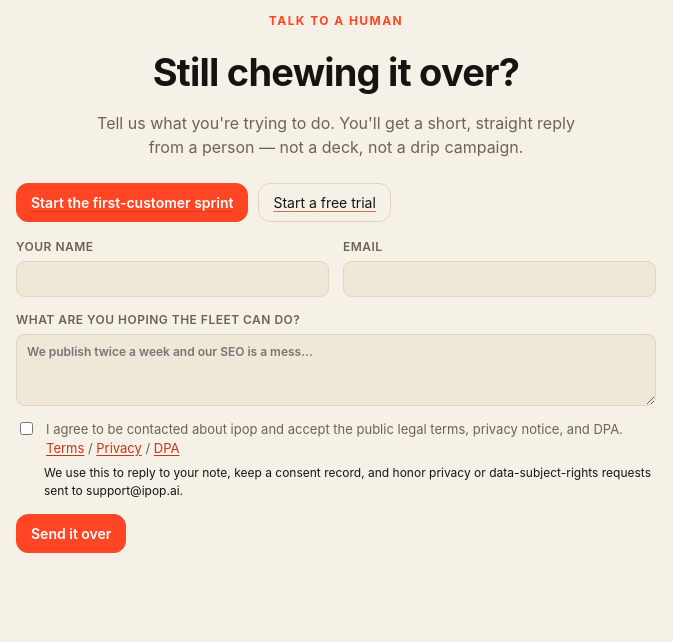
Test: ContactForm failure visibility (#938) › logs non-2xx captures and shows the accessible error alert
In the field labelled "Email": (500, 279) [343,261,656,297], type "ada@example.com"
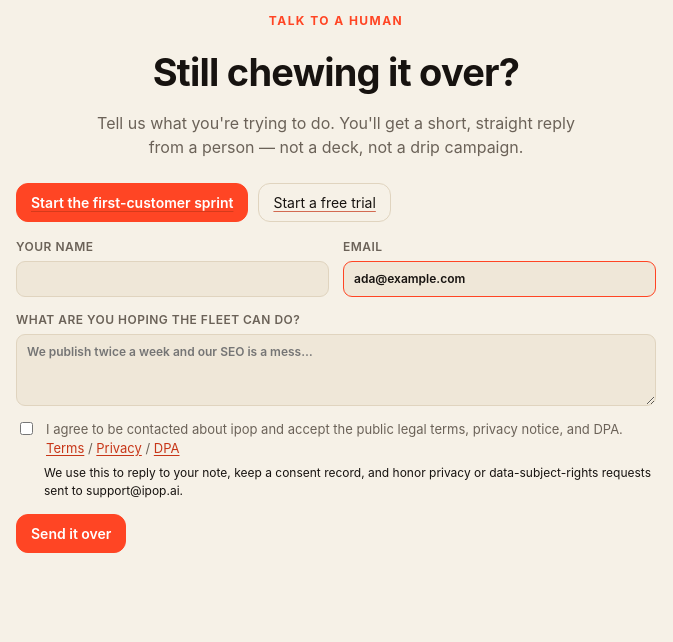
In the text box labelled "What are you hoping the fleet can do?": (336, 370) [16,334,656,406], type "We want to improve our SEO."
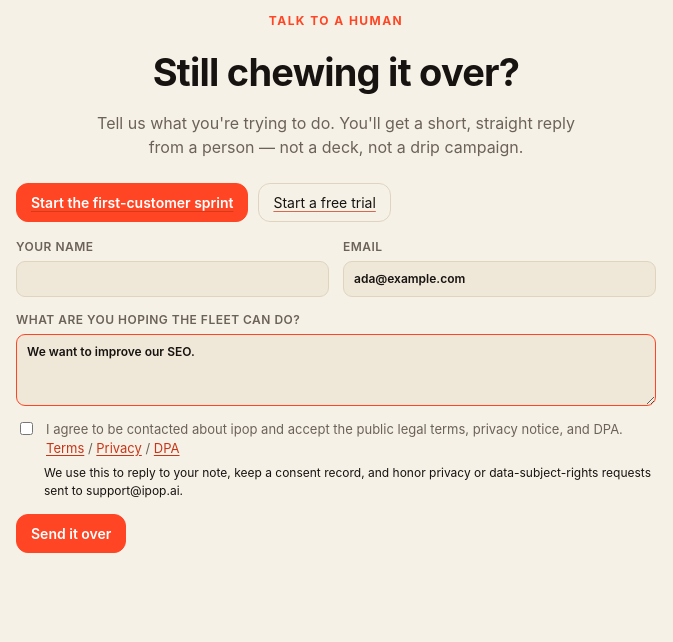
Click the checkbox labelled "public legal terms": (26, 428) [20,422,33,435]
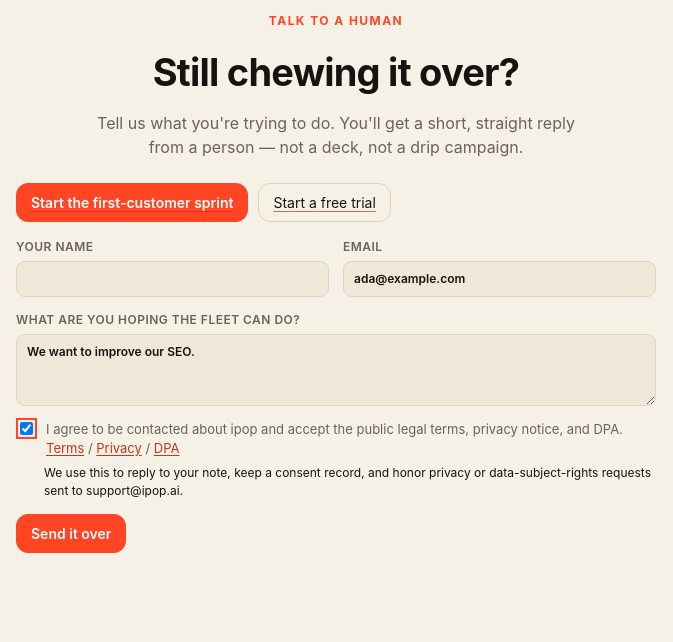
Click the button "Send it over": (71, 533) [16,514,126,553]
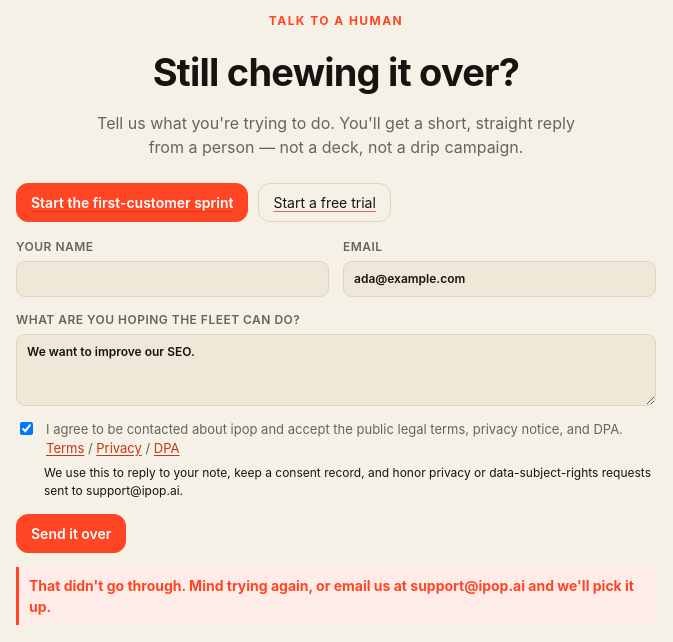
Now the message shows "support@ipop.ai", box [29,577,634,615]
